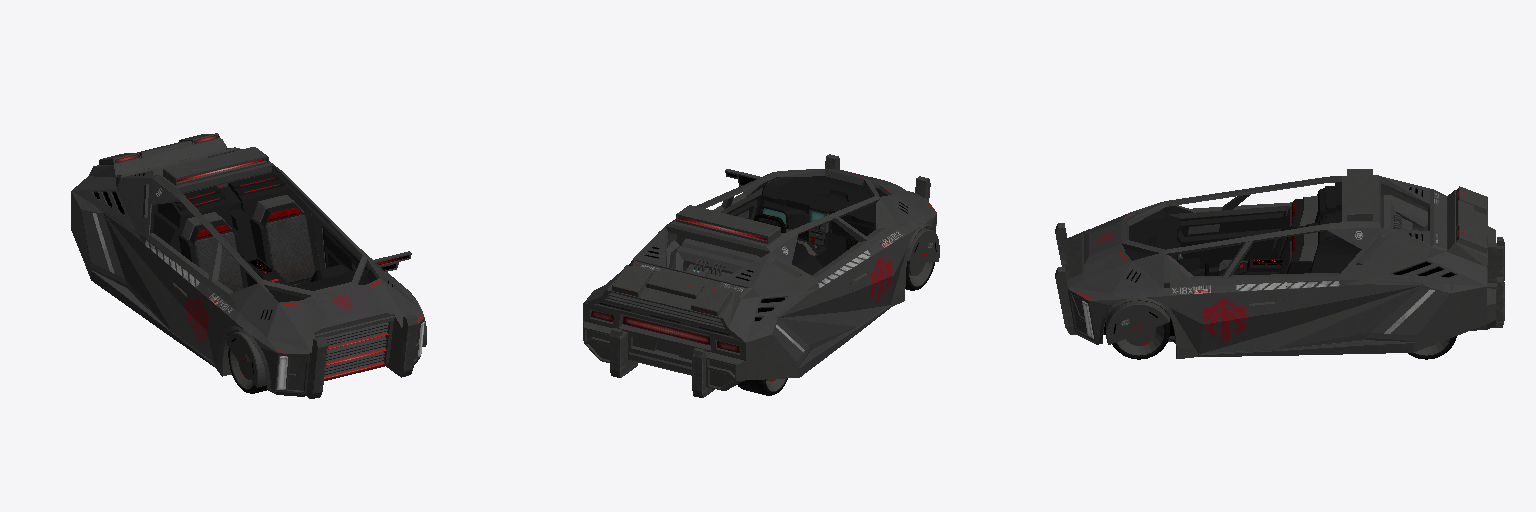
3 views of the same model, side by side, from view 1: azimuth 30°, elevation 25°; view 2: azimuth 150°, elevation 25°; view 3: azimuth 270°, elevation 25° (orthographic).
Parts seen in each view (by area): view 1: AdventCopCar; view 2: AdventCopCar; view 3: AdventCopCar.
Part boxes in pixels (x1,y1,x2,y2): AdventCopCar: (71, 133, 426, 398); AdventCopCar: (583, 154, 939, 397); AdventCopCar: (1055, 169, 1504, 359).
Bounding box in the file's own units: 182 × 115 × 361.
1 materials, 1 textured.